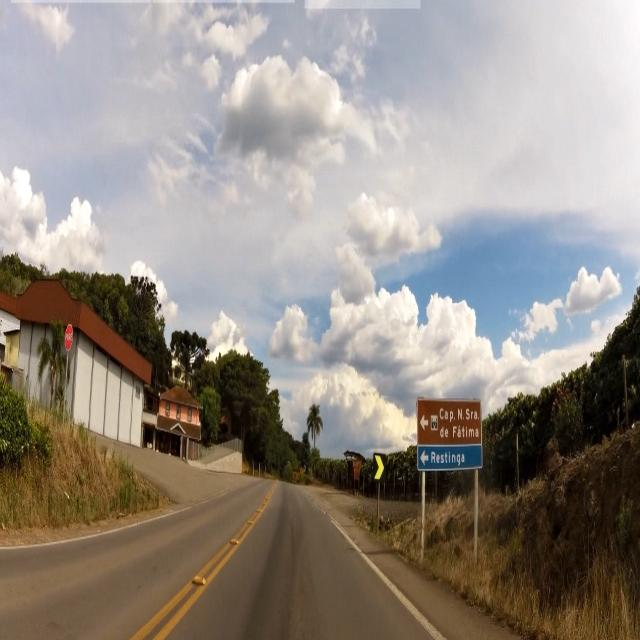Del: (371, 449, 388, 482)
